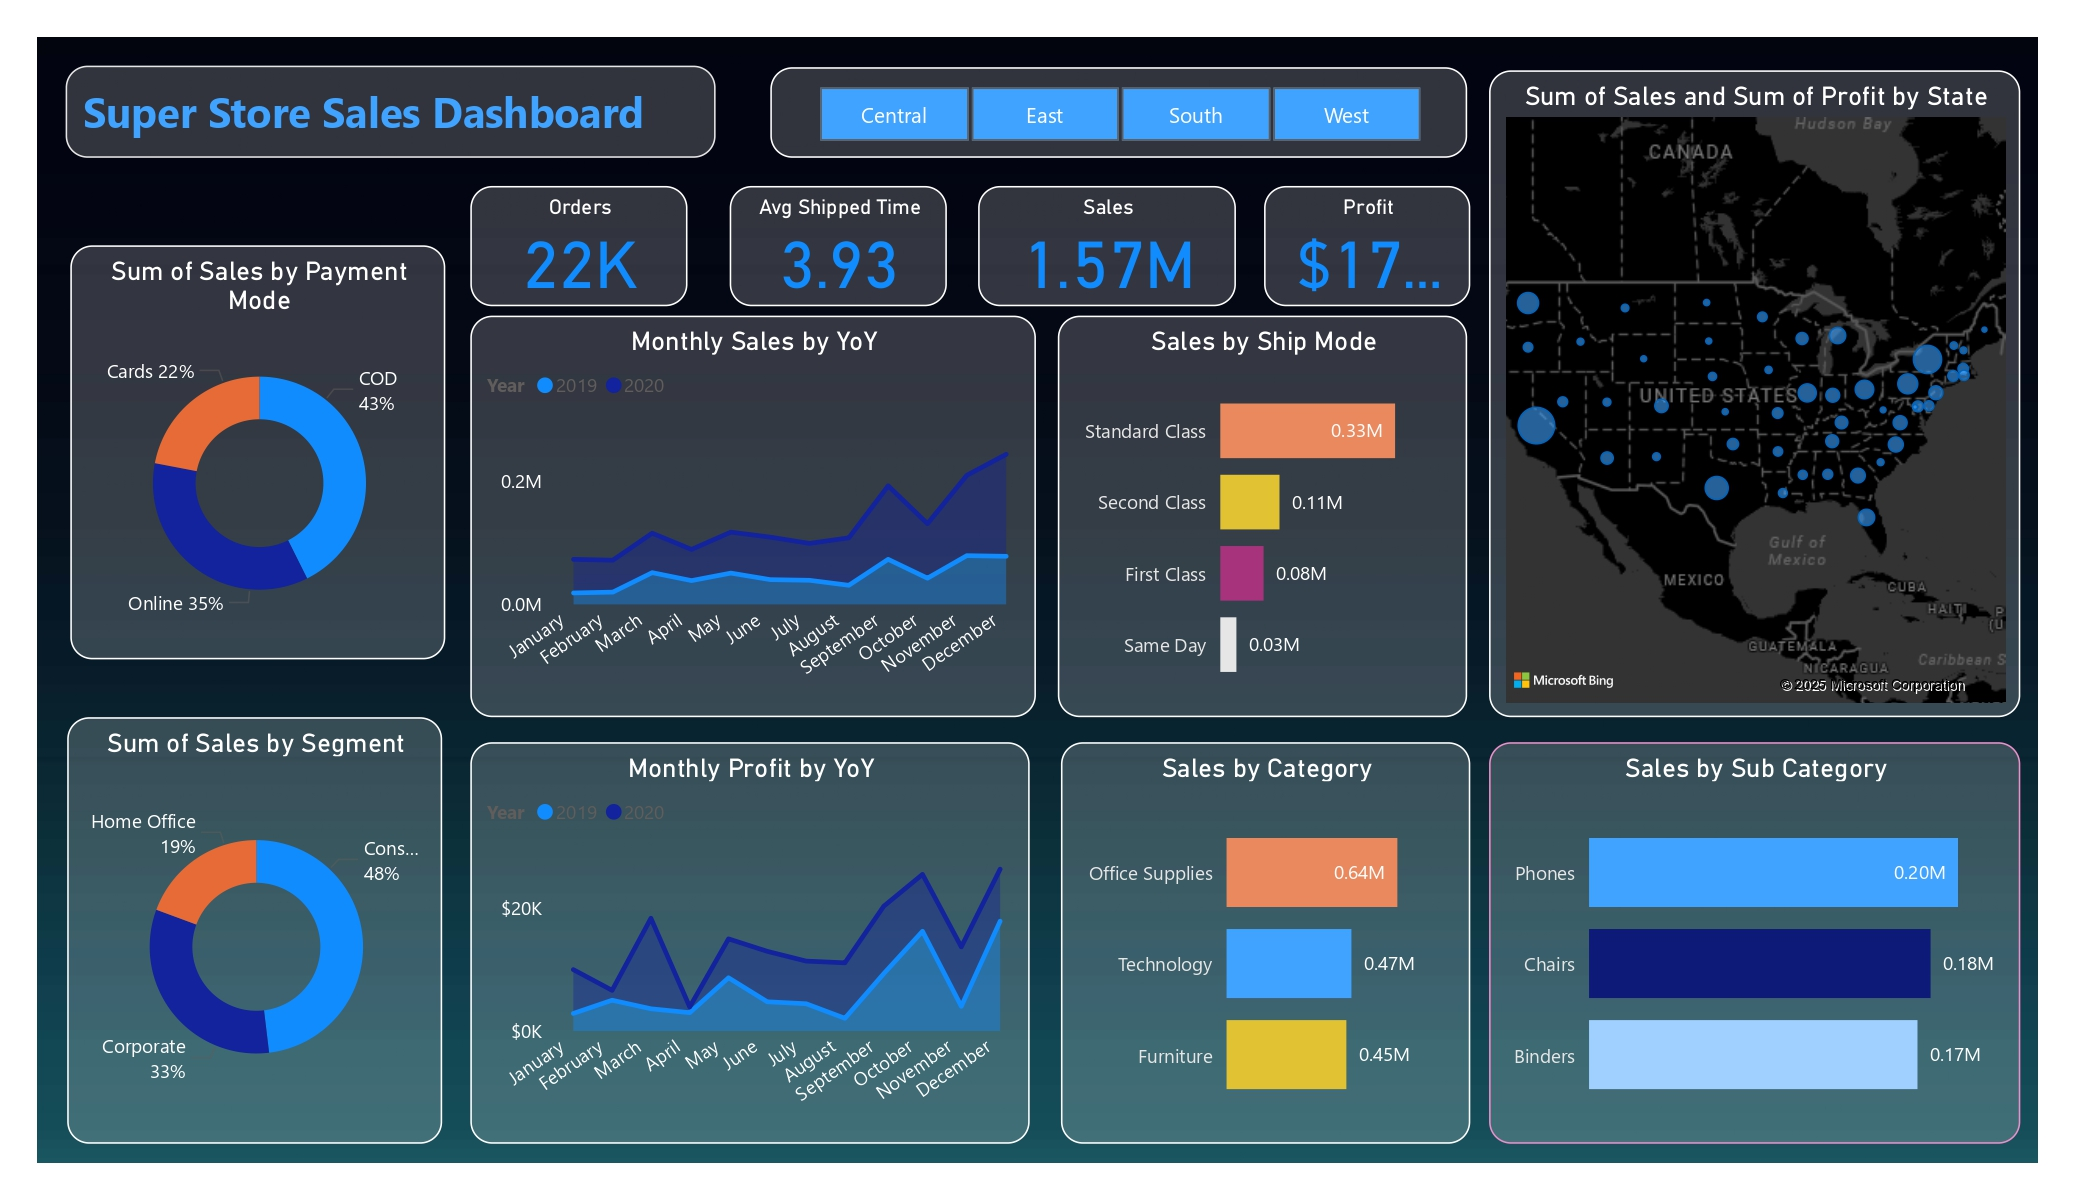

The page's visual inventory and layout, read from the dashboard file:
{"tool":"powerbi","page":{"name":"Page 1","canvas":[1280,720],"ordinal":0},"visuals":[{"type":"clusteredBarChart","title":"Sales by Category","fields":{"Y":["Sum(SuperStore_Sales_Dataset.Sales)"],"Category":["SuperStore_Sales_Dataset.Category"]},"box":[654.5,451.5,262.1,256.6],"z":0},{"type":"clusteredBarChart","title":"Sales by Sub Category","fields":{"Y":["Sum(SuperStore_Sales_Dataset.Sales)"],"Category":["SuperStore_Sales_Dataset.Sub-Category"]},"box":[929,451.5,340.3,256.6],"z":1000},{"type":"clusteredBarChart","title":"Sales by Ship Mode","fields":{"Y":["Sum(SuperStore_Sales_Dataset.Sales)"],"Category":["SuperStore_Sales_Dataset.Ship Mode"]},"box":[653.2,178.4,262.1,256.6],"z":2000},{"type":"stackedAreaChart","title":"Monthly Sales by YoY","fields":{"Category":["SuperStore_Sales_Dataset.Order Date.Variation.Date Hierarchy.Month","SuperStore_Sales_Dataset.Order Date.Variation.Date Hierarchy.Day"],"Y":["Sum(SuperStore_Sales_Dataset.Sales)"],"Series":["SuperStore_Sales_Dataset.Order Date.Variation.Date Hierarchy.Year"]},"box":[277.2,178.4,362.3,256.6],"z":3000},{"type":"stackedAreaChart","title":"Monthly Profit by YoY","fields":{"Category":["SuperStore_Sales_Dataset.Order Date.Variation.Date Hierarchy.Month","SuperStore_Sales_Dataset.Order Date.Variation.Date Hierarchy.Day"],"Series":["SuperStore_Sales_Dataset.Order Date.Variation.Date Hierarchy.Year"],"Y":["Sum(SuperStore_Sales_Dataset.Profit)"]},"box":[277.2,451.5,358.1,256.6],"z":4000},{"type":"map","fields":{"Category":["SuperStore_Sales_Dataset.State"],"Size":["Sum(SuperStore_Sales_Dataset.Sales)"]},"box":[929,20.6,340.3,414.4],"z":5000},{"type":"slicer","fields":{"Values":["SuperStore_Sales_Dataset.Region"]},"box":[469.3,19.2,446,57.6],"z":6000},{"type":"donutChart","fields":{"Y":["Sum(SuperStore_Sales_Dataset.Sales)"],"Category":["SuperStore_Sales_Dataset.Payment Mode"]},"box":[20.6,133.1,240.1,264.8],"z":7000},{"type":"textbox","box":[17.8,17.8,415.8,59],"z":8000},{"type":"card","title":"Sales","fields":{"Values":["Sum(SuperStore_Sales_Dataset.Sales)"]},"box":[602.4,94.7,164.7,76.8],"z":9000},{"type":"card","title":"Profit","fields":{"Values":["Sum(SuperStore_Sales_Dataset.Profit)"]},"box":[784.9,94.7,131.7,76.8],"z":10000},{"type":"card","title":"Orders","fields":{"Values":["Sum(SuperStore_Sales_Dataset.Quantity)"]},"box":[277.2,94.7,138.6,76.8],"z":11000},{"type":"card","title":"Avg Shipped Time","fields":{"Values":["Avg(SuperStore_Sales_Dataset.AvgDelivery)"]},"box":[443.2,94.7,138.6,76.8],"z":12000},{"type":"donutChart","fields":{"Y":["Sum(SuperStore_Sales_Dataset.Sales)"],"Category":["SuperStore_Sales_Dataset.Segment"]},"box":[19.2,435,240.1,273.1],"z":13000}]}

Visuals, with their boxes in screenshot pixels (x1, y1, x2, y2):
"Sales by Category" clusteredBarChart: detection(1060, 743, 1470, 1144)
"Sales by Sub Category" clusteredBarChart: detection(1489, 743, 2021, 1144)
"Sales by Ship Mode" clusteredBarChart: detection(1058, 316, 1468, 717)
"Monthly Sales by YoY" stackedAreaChart: detection(471, 316, 1037, 717)
"Monthly Profit by YoY" stackedAreaChart: detection(471, 743, 1030, 1144)
map - SuperStore_Sales_Dataset.State x Sum(SuperStore_Sales_Dataset.Sales): detection(1489, 70, 2021, 717)
slicer - SuperStore_Sales_Dataset.Region: detection(771, 68, 1468, 158)
donutChart - Sum(SuperStore_Sales_Dataset.Sales) x SuperStore_Sales_Dataset.Payment Mode: detection(70, 245, 445, 659)
textbox: detection(65, 65, 715, 158)
"Sales" card: detection(979, 185, 1236, 305)
"Profit" card: detection(1264, 185, 1470, 305)
"Orders" card: detection(471, 185, 687, 305)
"Avg Shipped Time" card: detection(730, 185, 947, 305)
donutChart - Sum(SuperStore_Sales_Dataset.Sales) x SuperStore_Sales_Dataset.Segment: detection(68, 717, 443, 1144)
